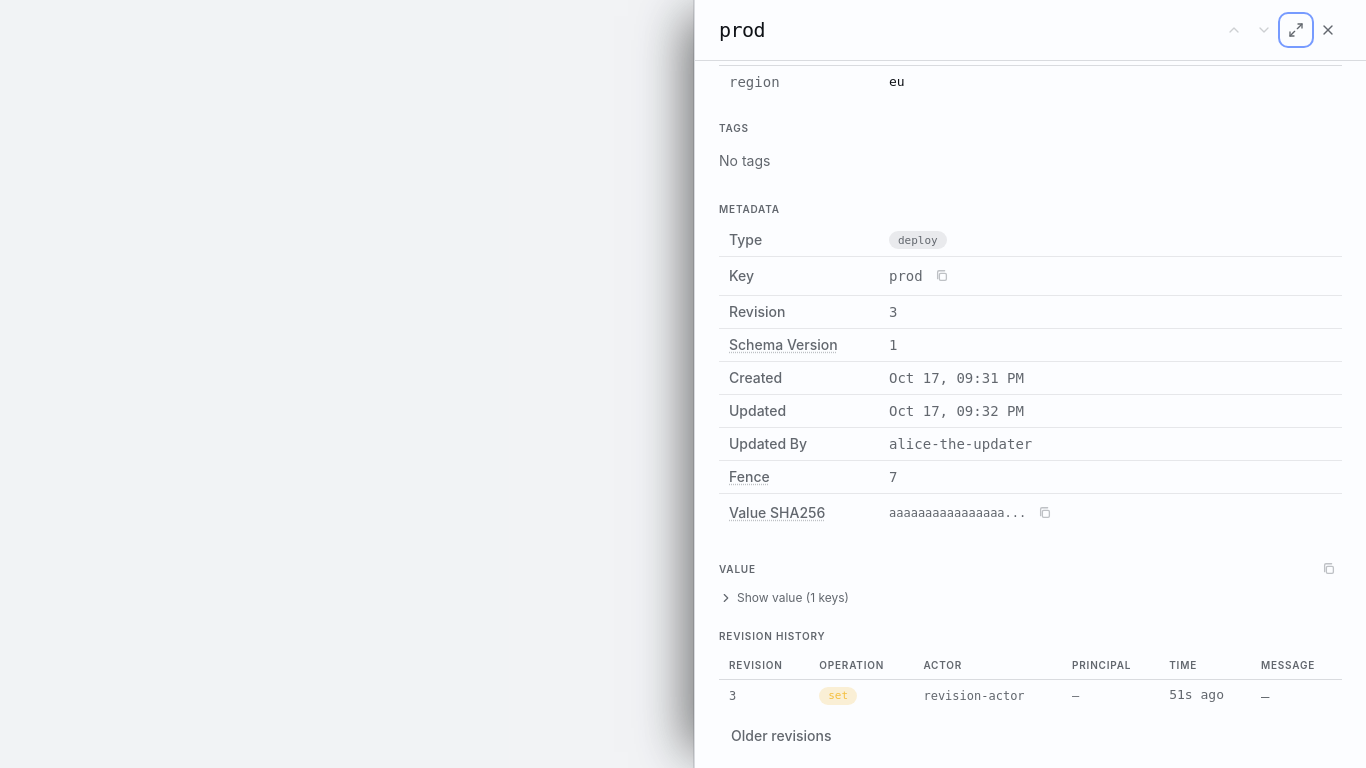
Test: RecordDetailPage content › Older revisions loads the next history page by cursor
(page scrolled)
Expected: the text "revision-actor" is shown, [913, 679, 1062, 712]
Step 1. Click the button "Older revisions" → (781, 736), box [719, 720, 844, 752]
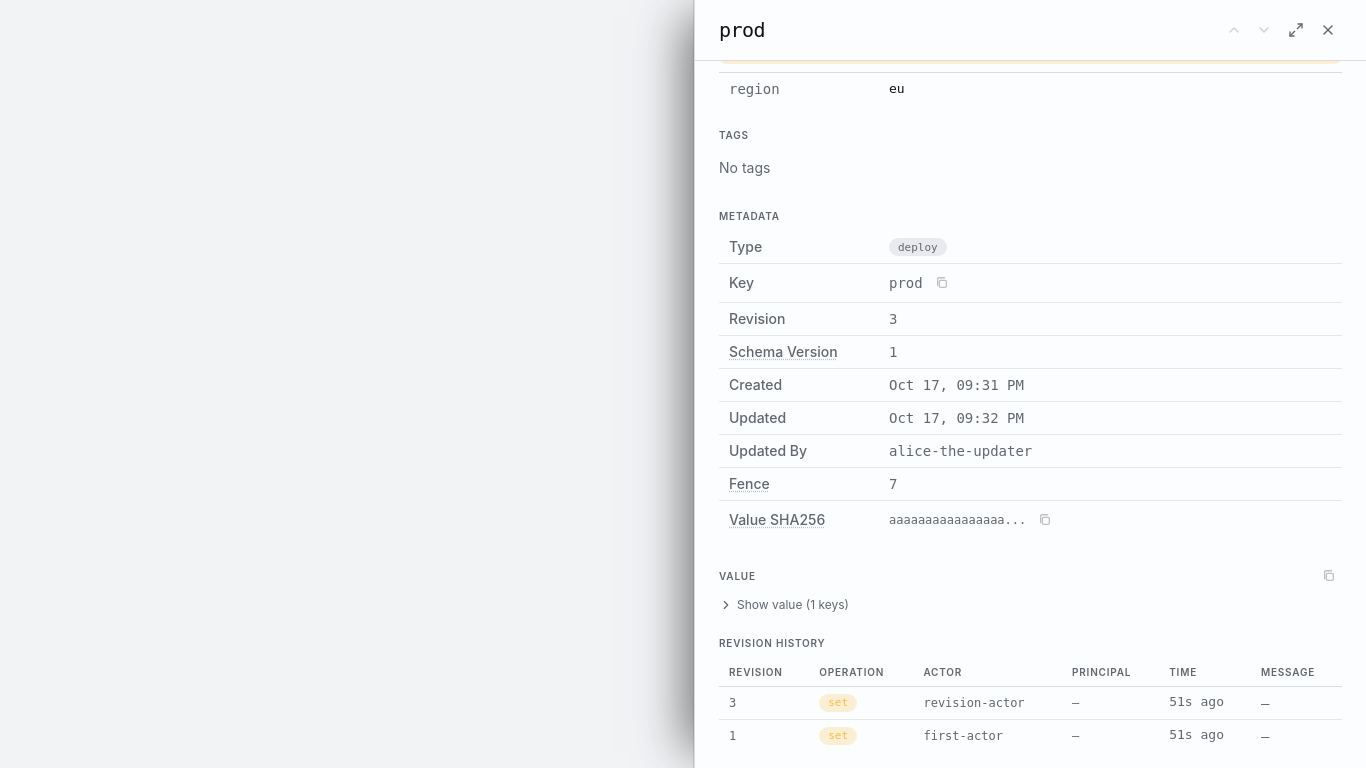
Expected: the text "revision-actor" is shown, [913, 686, 1062, 719]
Expected: the text "first-actor" is shown, [913, 719, 1062, 752]
Expected: the button "Older revisions" is gone
